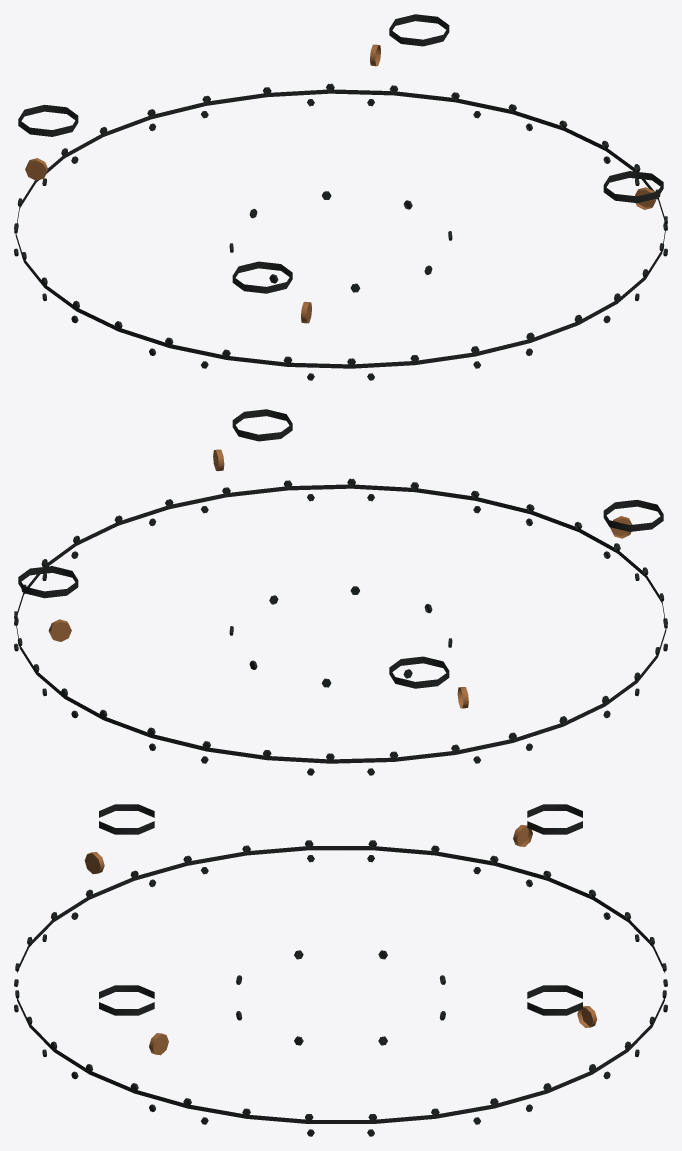
File: geyser_launcher_detail2.glb
The picture shows the model from 3 angles, top to bottom: view 1: azimuth 30°, elevation 25°; view 2: azimuth 150°, elevation 25°; view 3: azimuth 270°, elevation 25°; orthographic projection.
Parts seen in each view (by area): view 1: Detail2; view 2: Detail2; view 3: Detail2.
Boxes of the visible parts, x1,y1,x2,y2 form: Detail2: [14, 14, 667, 380]; Detail2: [14, 409, 667, 775]; Detail2: [14, 804, 667, 1136].
Bounding box in the file's own units: 6.91 × 1.11 × 6.91.
